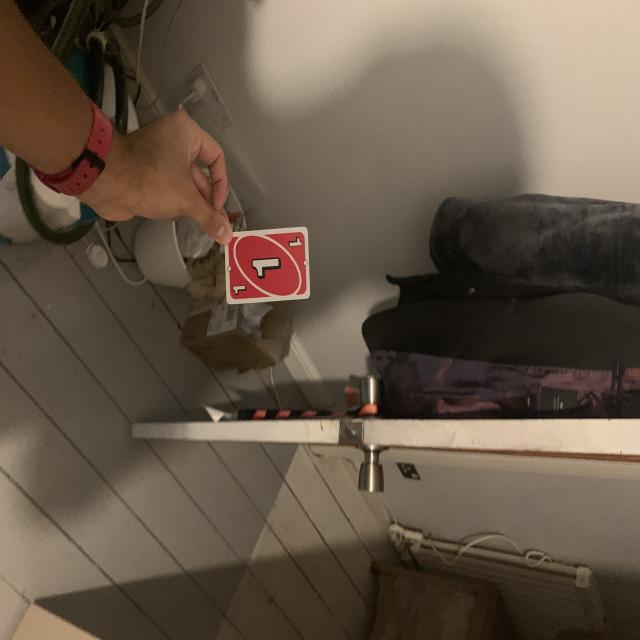lred-1: (287, 236, 302, 252)
